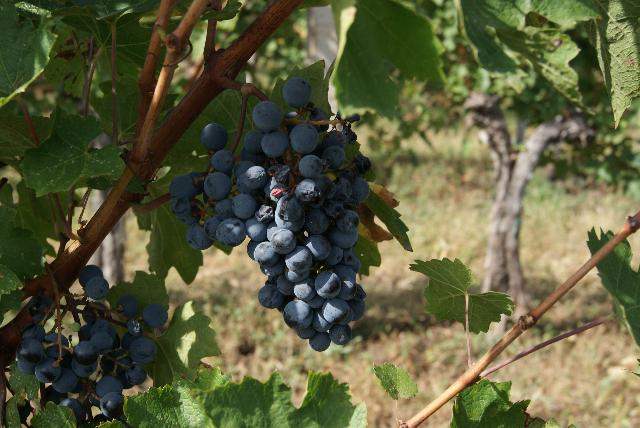grapes: (179, 79, 399, 351), (15, 265, 168, 426), (16, 295, 158, 424)
